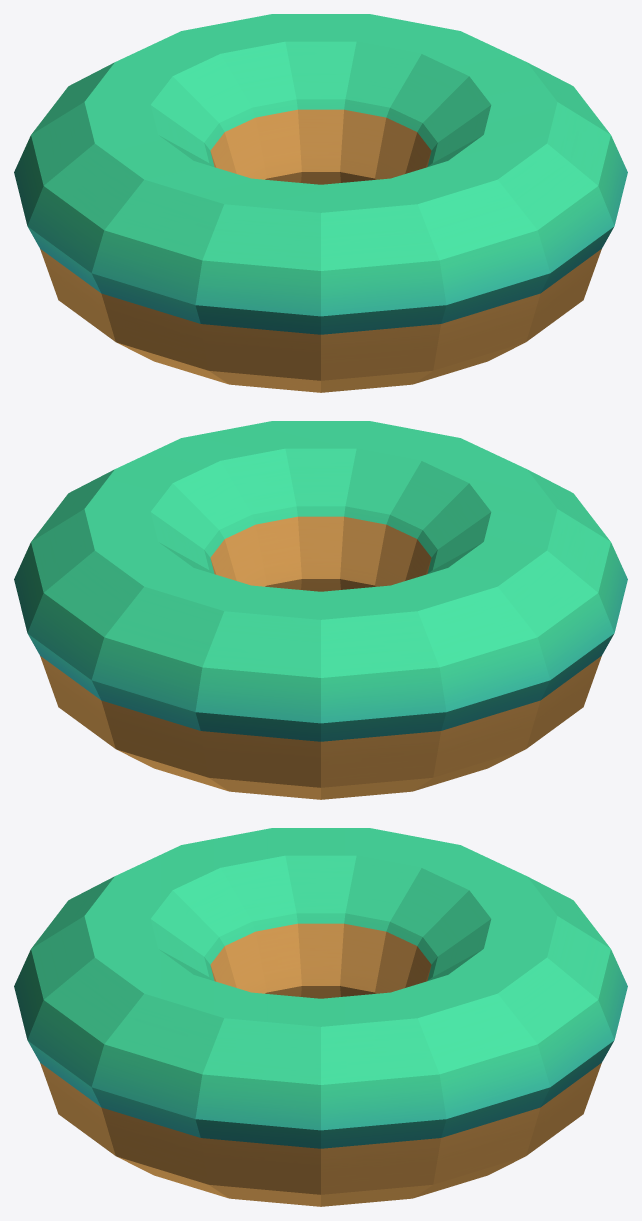
The model's file is Donut2.glb.
The picture shows the model from 3 angles, top to bottom: view 1: azimuth 30°, elevation 25°; view 2: azimuth 150°, elevation 25°; view 3: azimuth 270°, elevation 25°; orthographic projection.
Visible parts, largest first — view 1: Donut2; view 2: Donut2; view 3: Donut2.
Boxes of the visible parts, x1,y1,x2,y2 form: Donut2: [14, 14, 627, 392]; Donut2: [14, 421, 627, 799]; Donut2: [14, 828, 627, 1206].
Bounding box in the file's own units: 0.5992 × 0.2007 × 0.6025.
1 material, 1 textured.
